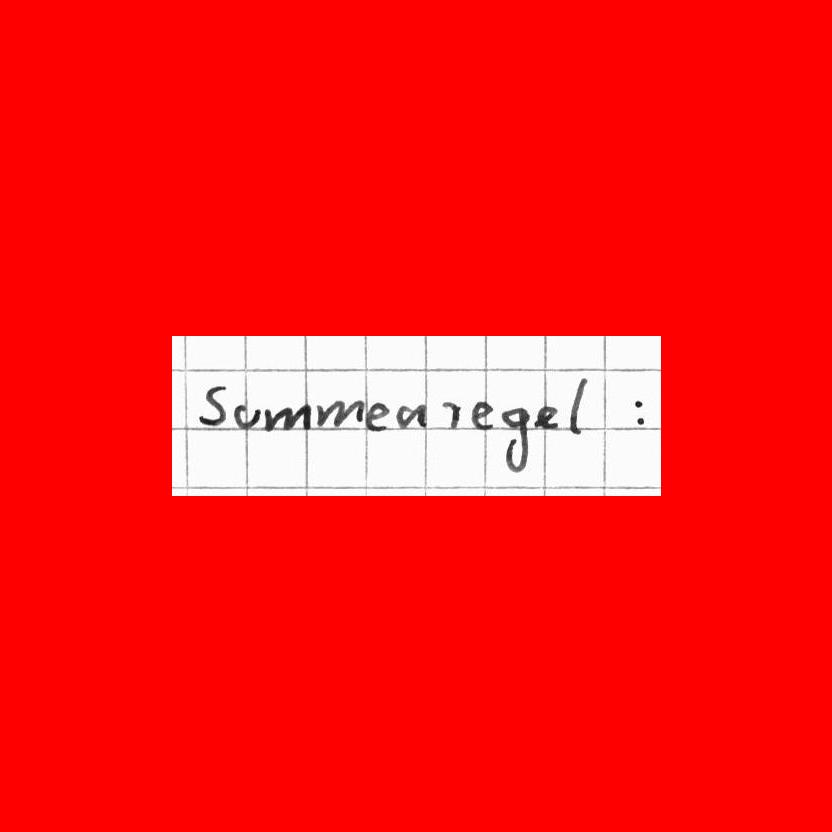Char: (498, 406, 531, 474), (315, 397, 365, 430), (196, 382, 228, 429), (264, 402, 312, 433), (567, 376, 589, 437), (394, 401, 430, 432), (231, 402, 262, 431), (469, 398, 496, 430), (364, 400, 390, 432), (440, 398, 463, 432), (532, 404, 559, 431), (632, 397, 647, 427)
